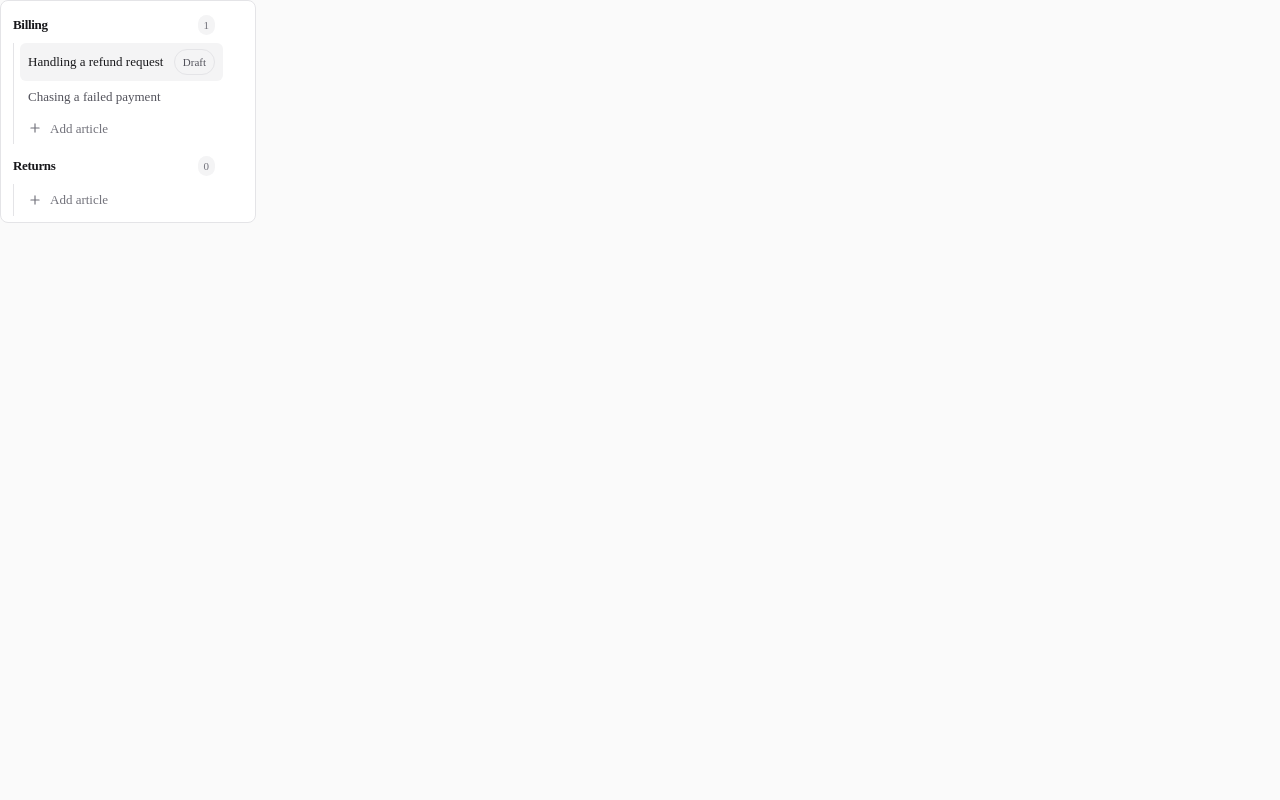
Scenario: SidebarTree › leaving an article with unsaved edits › opens Add article straight away when nothing is unsaved
Click the button "Add article" below "Chasing a failed payment" at (136, 128), box [20,112,251,144]
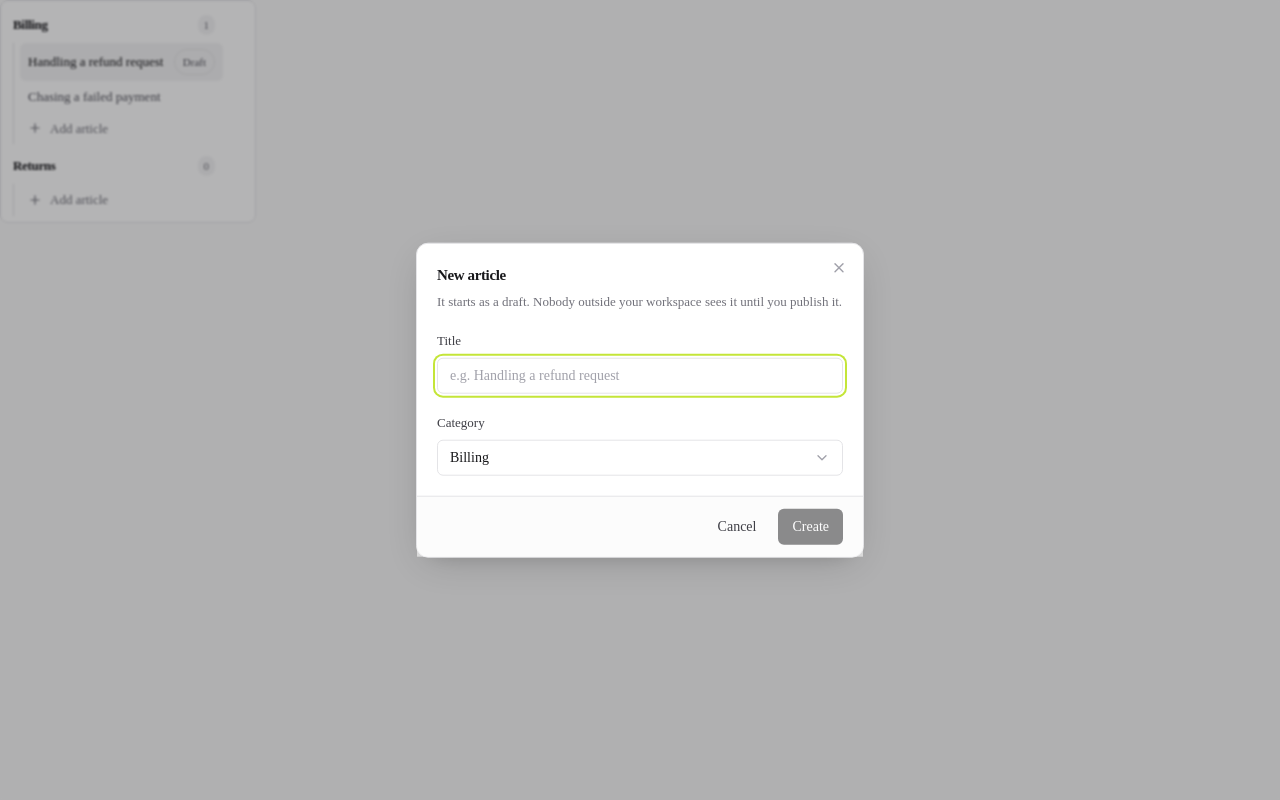
Expected: the dialog is shown, [416,243,864,557]
